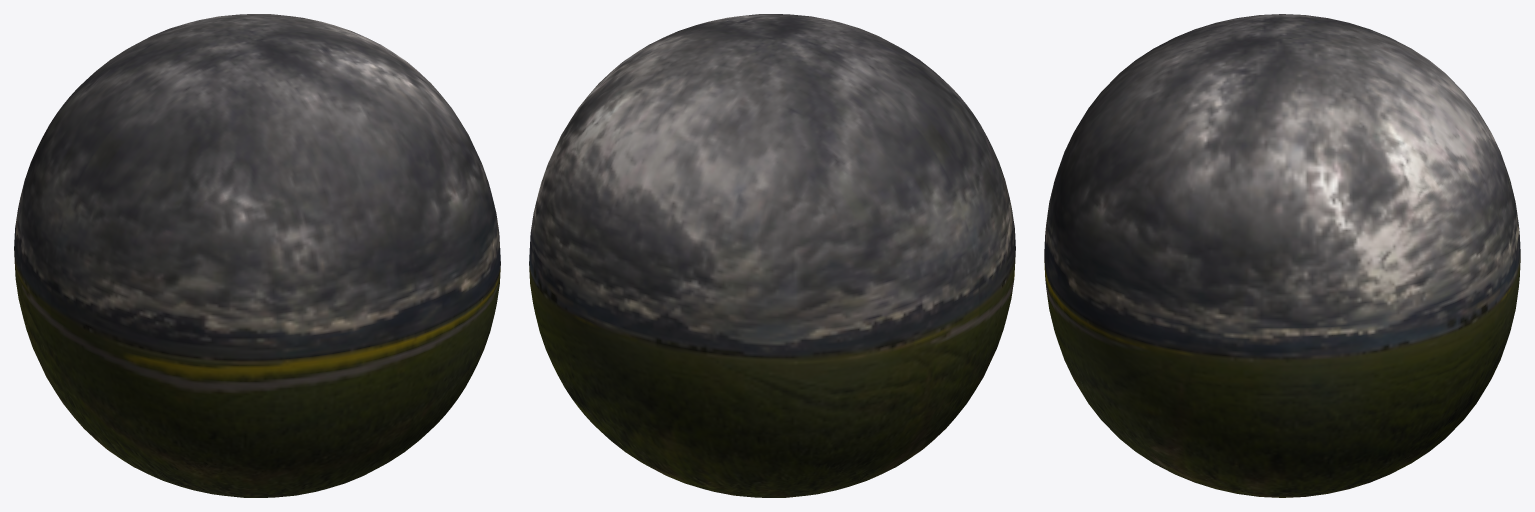
File: horrorVillageV1.fbx
3 renders of one model, left to right at view 1: azimuth 30°, elevation 25°; view 2: azimuth 150°, elevation 25°; view 3: azimuth 270°, elevation 25°, orthographic.
Visible parts, largest first — view 1: Cube.029; view 2: Cube.029; view 3: Cube.029.
Part boxes in pixels (x1,y1,x2,y2): Cube.029: (14,14,500,497); Cube.029: (529,14,1015,497); Cube.029: (1044,14,1520,497).
Bounding box in the file's own units: 11831 × 11831 × 11831.
Materials: 19 (18 with a texture image).
